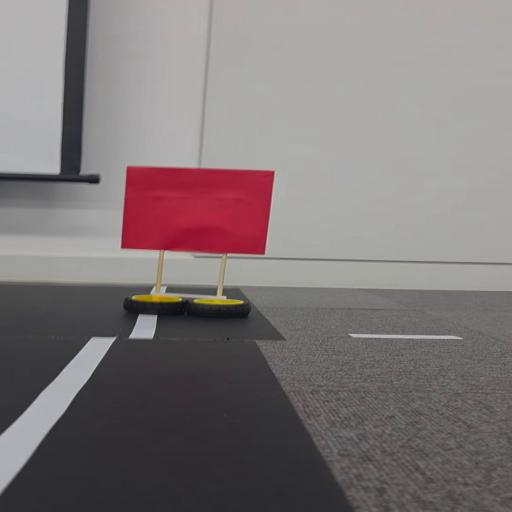Sign_A: (115, 164, 284, 324)
